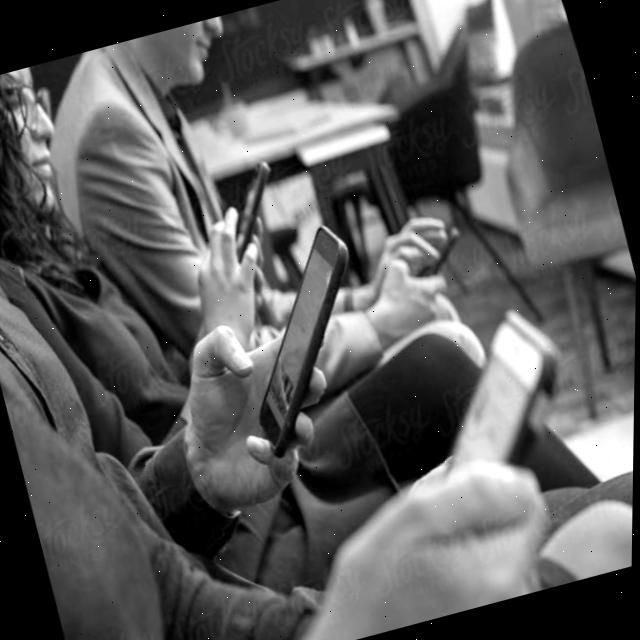phone: (206, 216, 406, 464), (400, 294, 593, 491), (208, 156, 298, 264), (401, 223, 472, 282)
